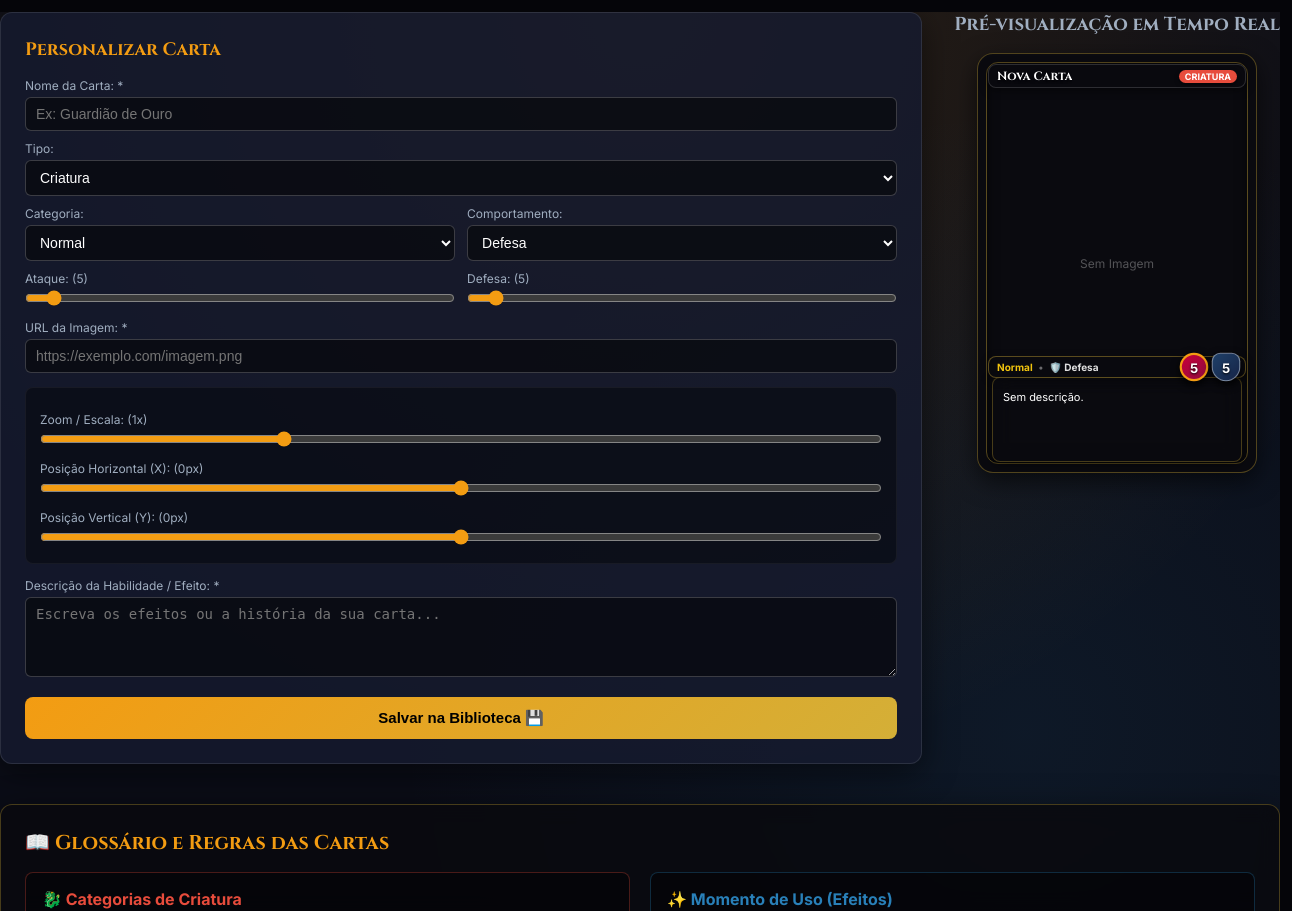
Test: CardCreatorSection Component › deve ocultar os rótulos de Ataque e Defesa do formulário ao selecionar o tipo Efeito
This screenshot has width=1292, height=911.
Step 1. Select "Efeito" in the 1st dropdown → (461, 178), box [25, 160, 897, 196]
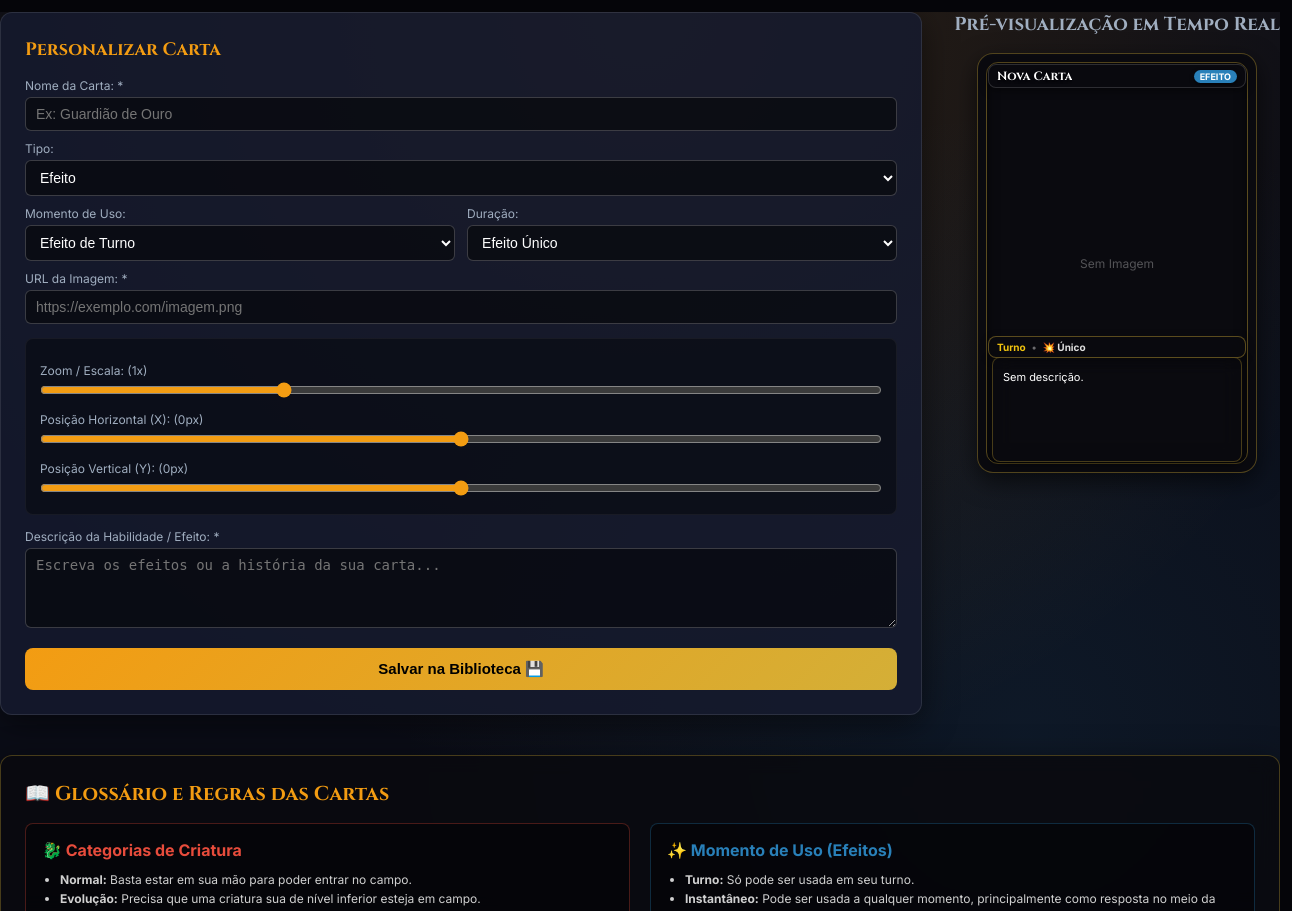
Now the label with class "crt-section__panel" no longer shows "Ataque:"
Now the element with class "crt-section__panel" no longer shows "Defesa:"
